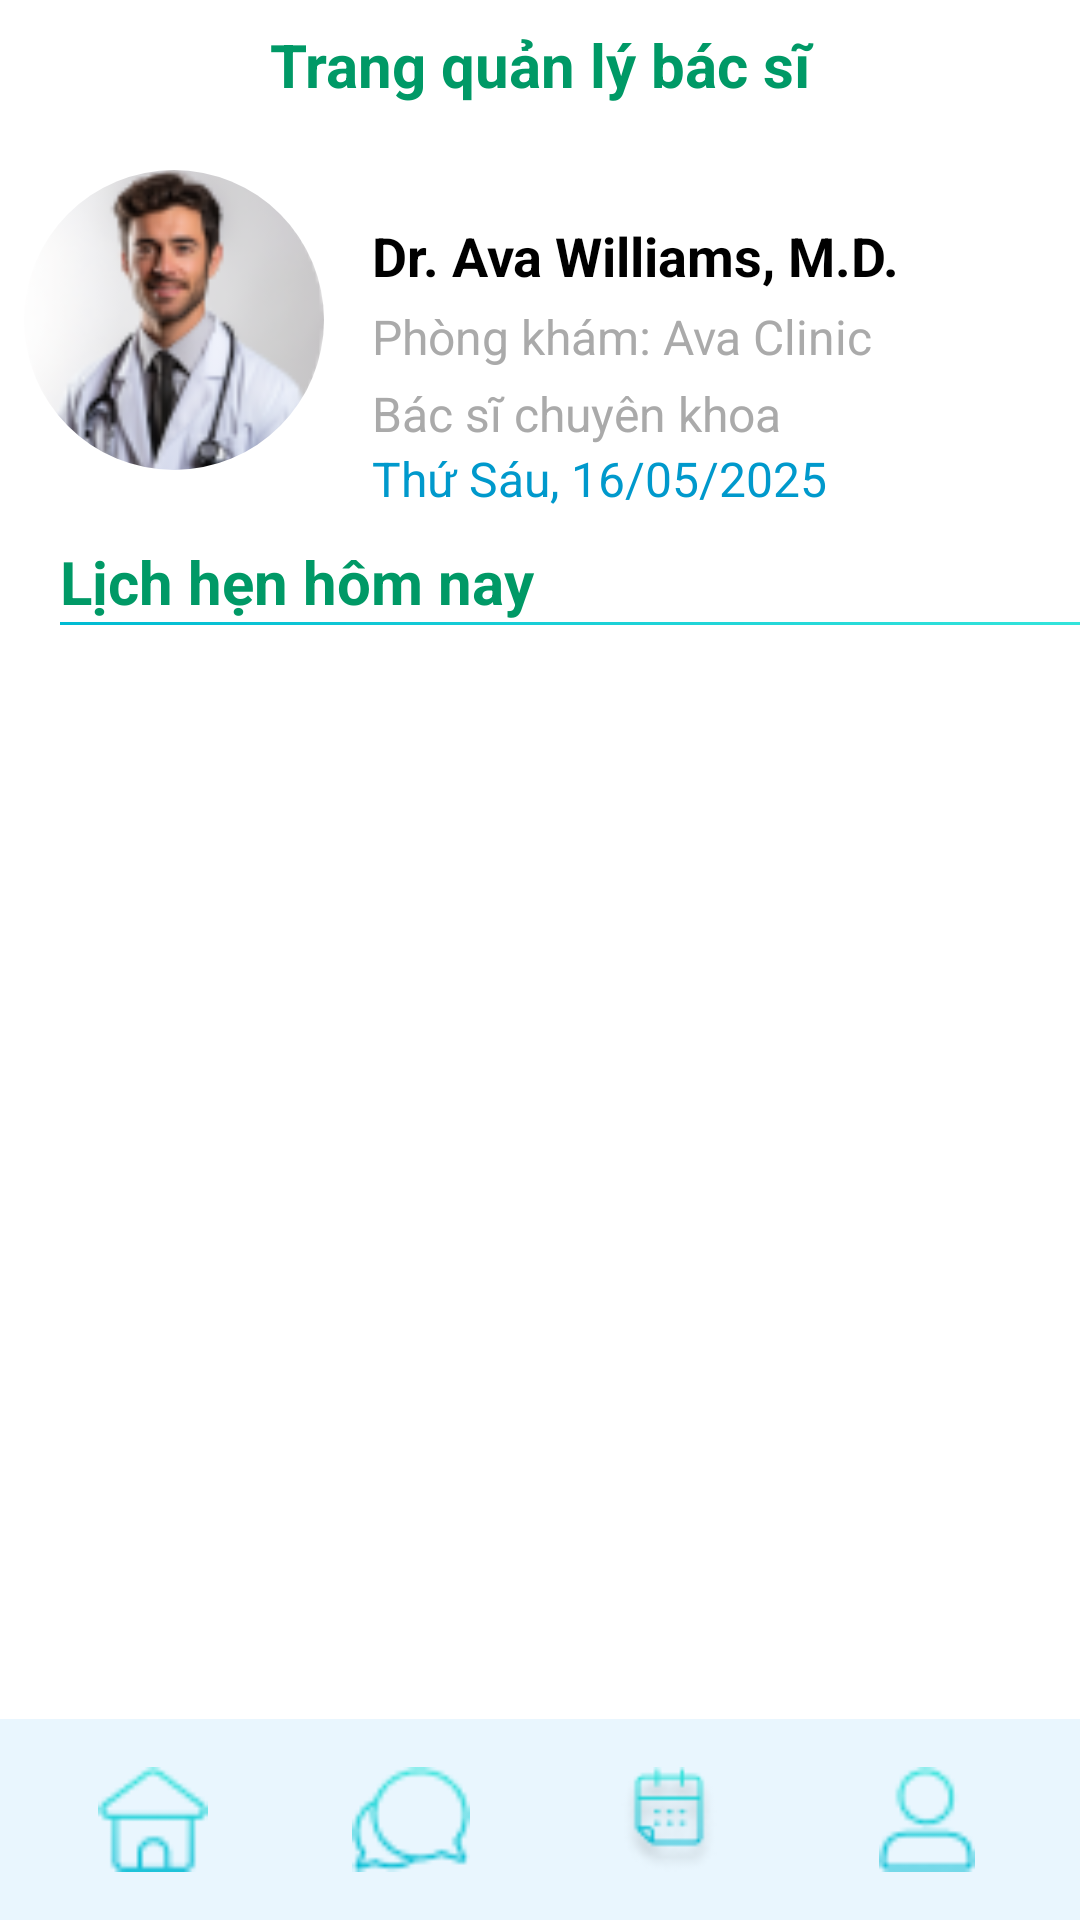

Named icons in this screenshot (1080x1920) and their bounding boxes, (x1, y1, x2, y2):
booking: (633, 1767, 705, 1848)
home: (98, 1767, 208, 1872)
mess: (352, 1767, 470, 1872)
profile: (879, 1767, 975, 1872)
